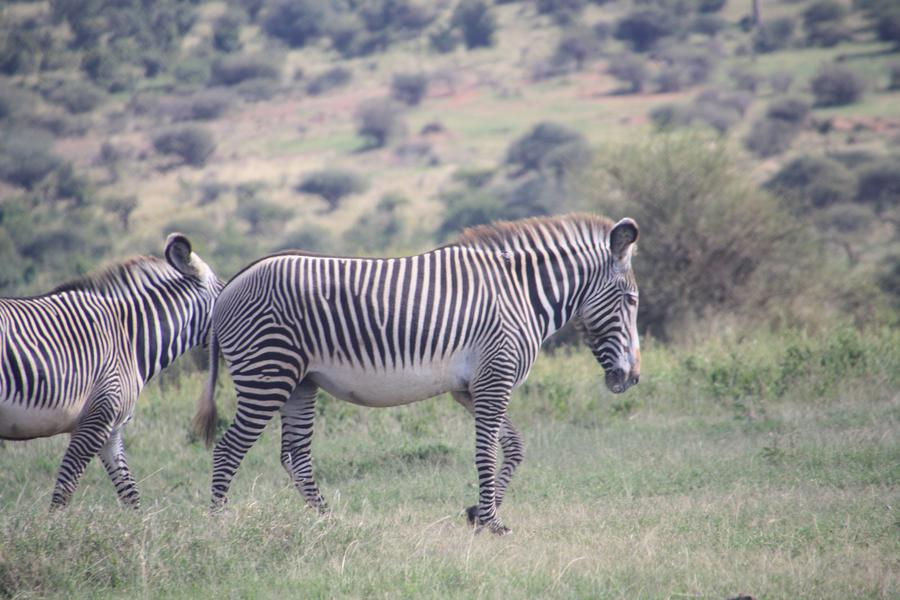zebra_grevys: (206, 246, 519, 388)
